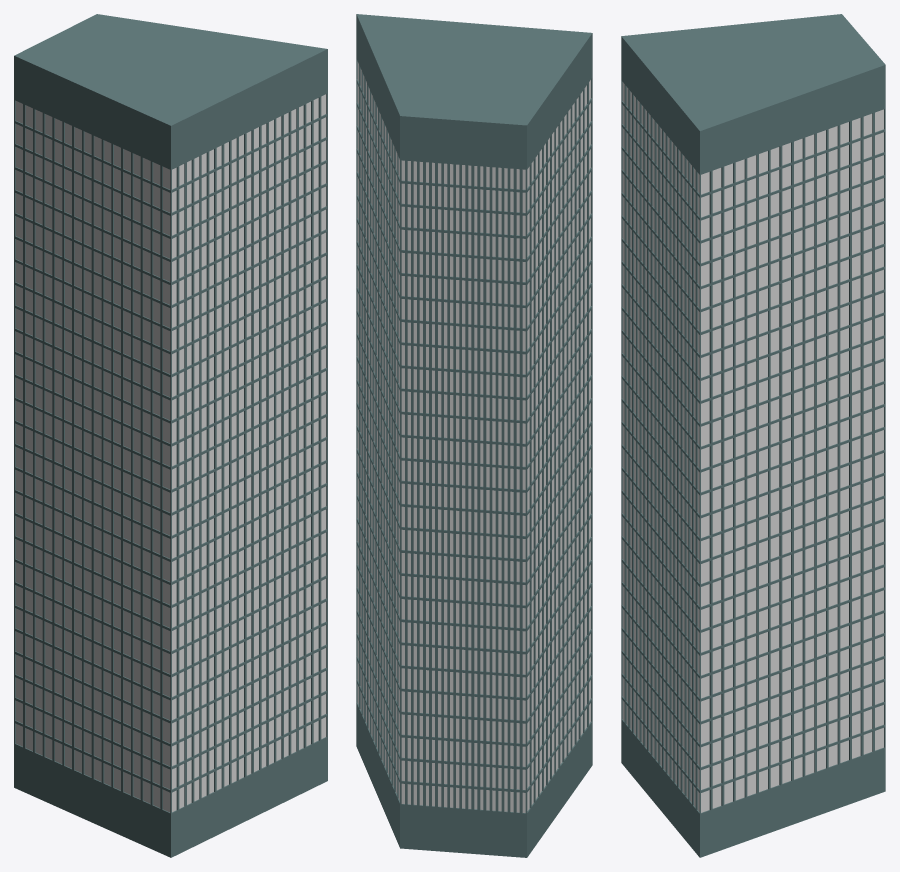
File: NinetyNine.fbx
3 views of the same model, side by side, from view 1: azimuth 30°, elevation 25°; view 2: azimuth 150°, elevation 25°; view 3: azimuth 270°, elevation 25° (orthographic).
Visible parts, largest first — view 1: NinetyNine; view 2: NinetyNine; view 3: NinetyNine.
Part boxes in pixels (bbox=[...]): NinetyNine: bbox=[14, 14, 327, 857]; NinetyNine: bbox=[356, 14, 592, 857]; NinetyNine: bbox=[621, 14, 885, 857].
Bounding box in the file's own units: 3427 × 9900 × 3265.
